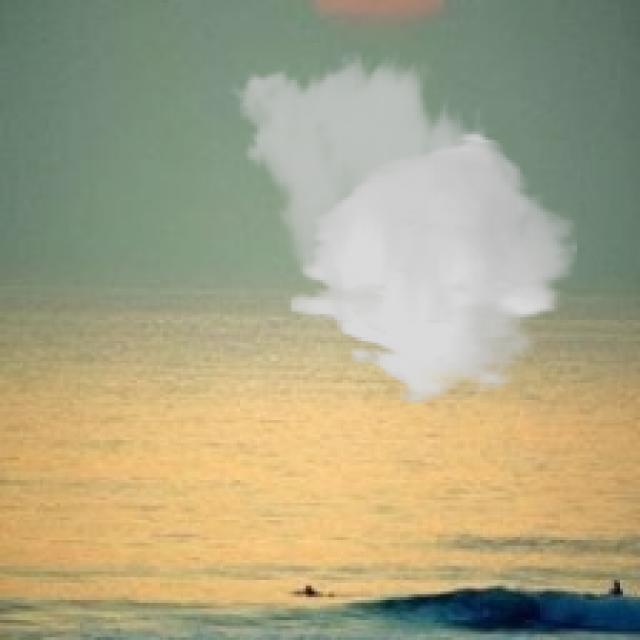smoke: (223, 48, 577, 406)
